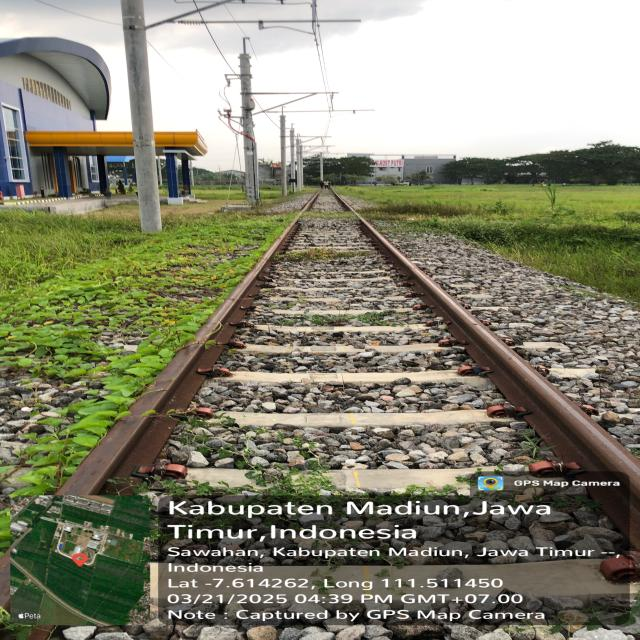rail-detection: (360, 218, 640, 547), (59, 221, 296, 494)
